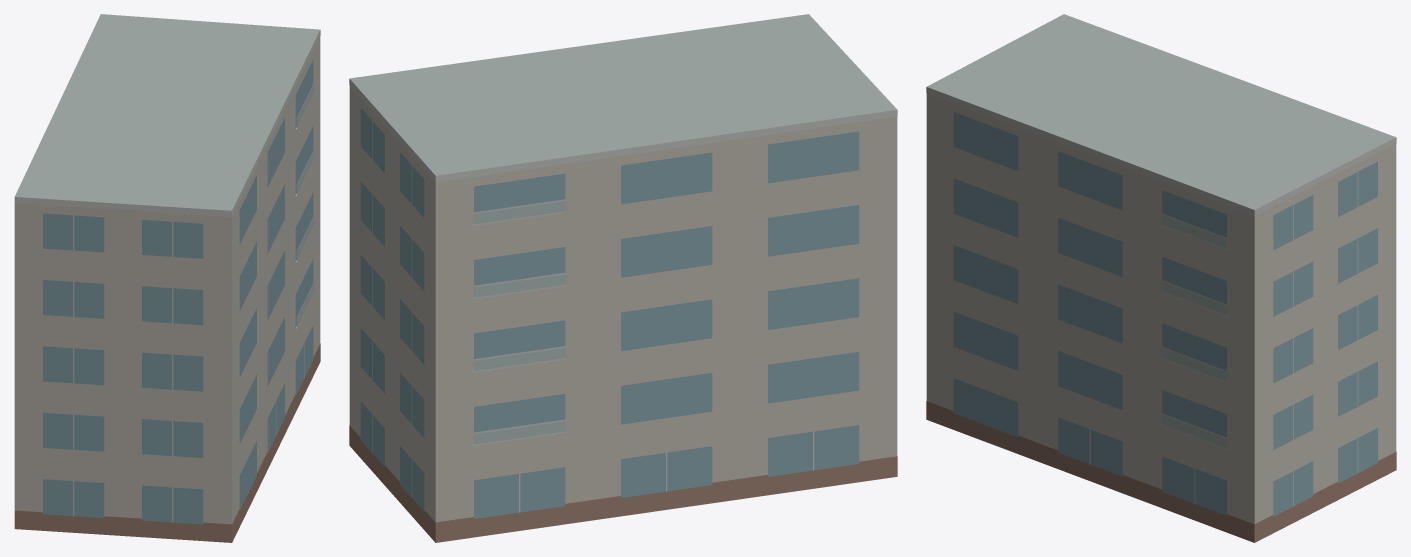
File: survey-upis-33001274.glb
3 renders of one model, left to right at view 1: azimuth 30°, elevation 25°; view 2: azimuth 150°, elevation 25°; view 3: azimuth 270°, elevation 25°, orthographic. The views are drawn at different scales.
Parts seen in each view (by area): view 1: survey-upis-33001274.tmp; view 2: survey-upis-33001274.tmp; view 3: survey-upis-33001274.tmp.
Boxes of the visible parts, bbox=[...] form: survey-upis-33001274.tmp: bbox=[14, 14, 320, 542]; survey-upis-33001274.tmp: bbox=[349, 14, 897, 542]; survey-upis-33001274.tmp: bbox=[926, 14, 1396, 542].
Size of the model in its own units: 16.43 by 13 by 16.64.
